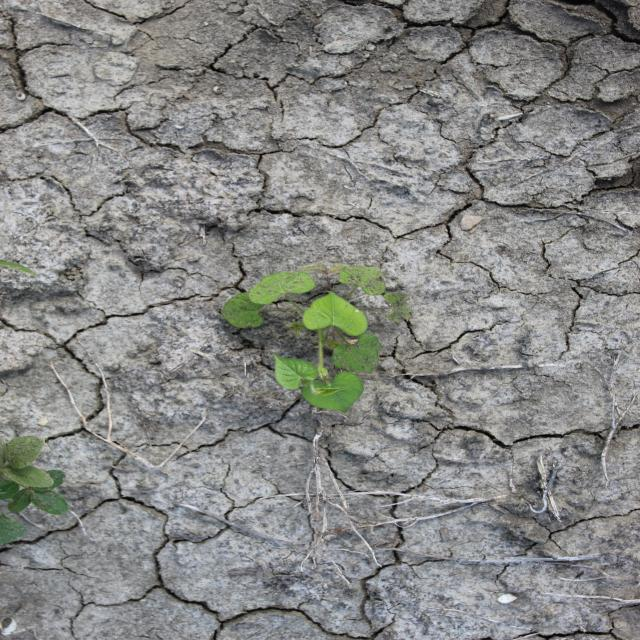MorningGlory: (220, 260, 414, 413)
